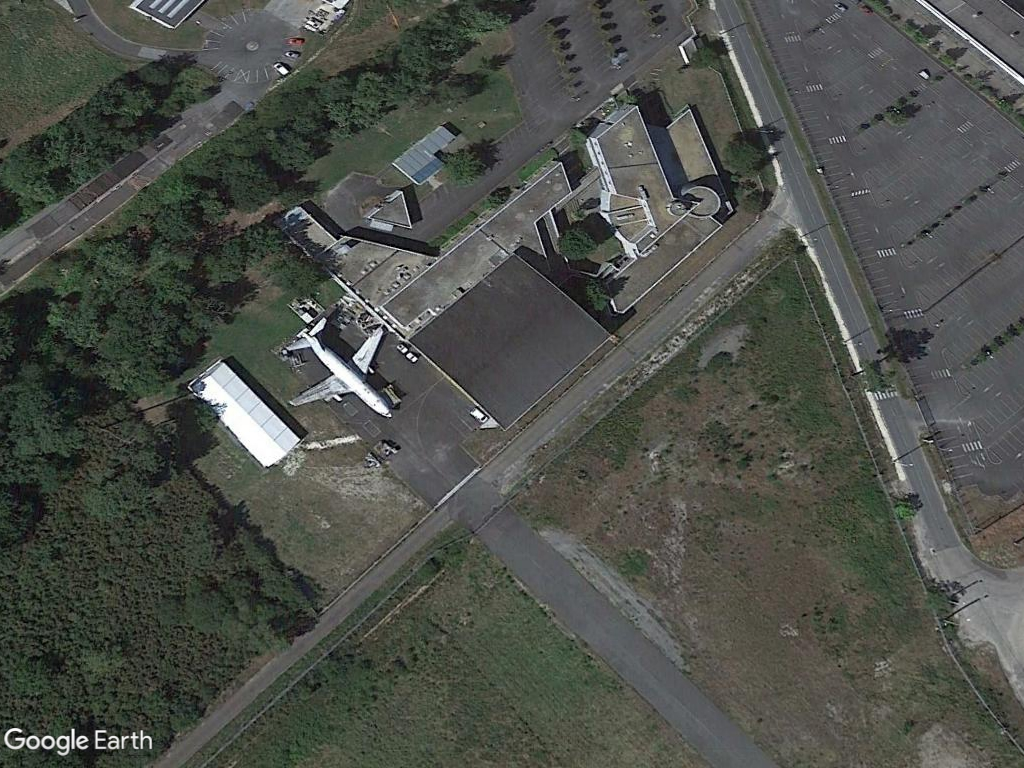airliner: (275, 314, 397, 421)
